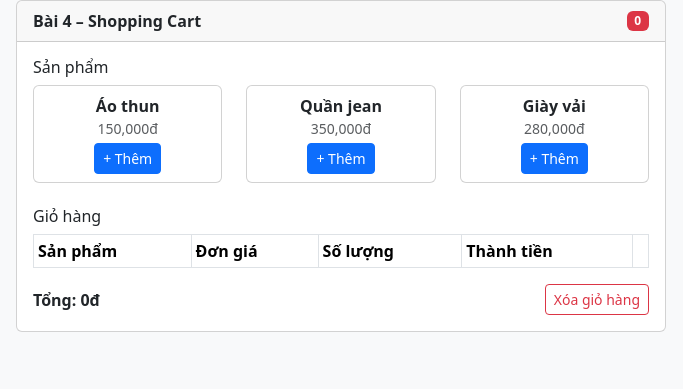
Test: Bài 4 – Shopping Cart › ✅ Task 2 – REMOVE_ITEM › xóa sản phẩm khỏi giỏ
The width and height of the screenshot is (683, 389).
Click the button with test id "btn-add-2" at (341, 159), box [308,143,375,174]
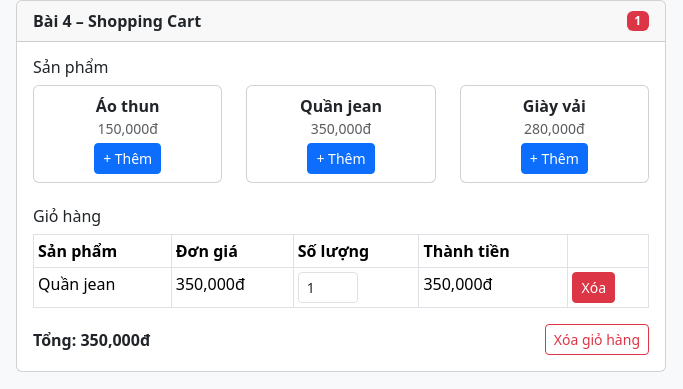
Click the button with test id "btn-remove-2" at (594, 288), box [572,272,615,303]
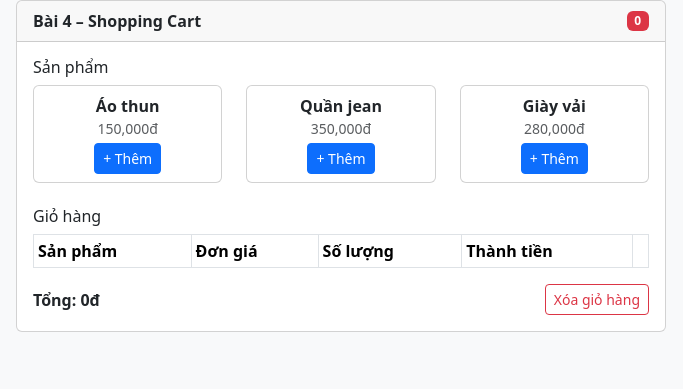
expect the row with test id "cart-row-2" is gone: met
